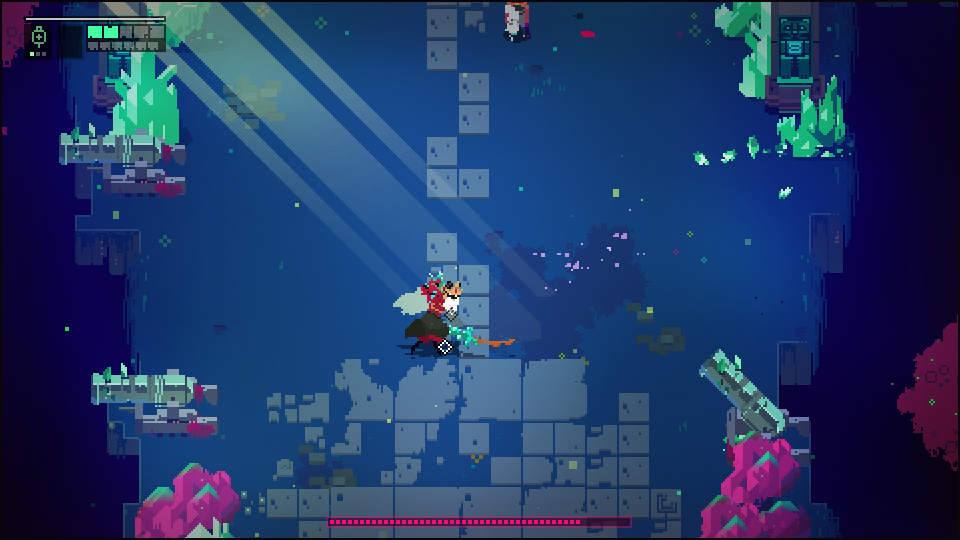hanged_man: (386, 264, 479, 357)
